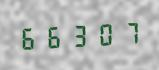seven: (114, 18, 137, 46)
six: (42, 21, 65, 50), (18, 23, 41, 51)
three: (66, 20, 89, 49)
zero: (90, 19, 113, 48)
